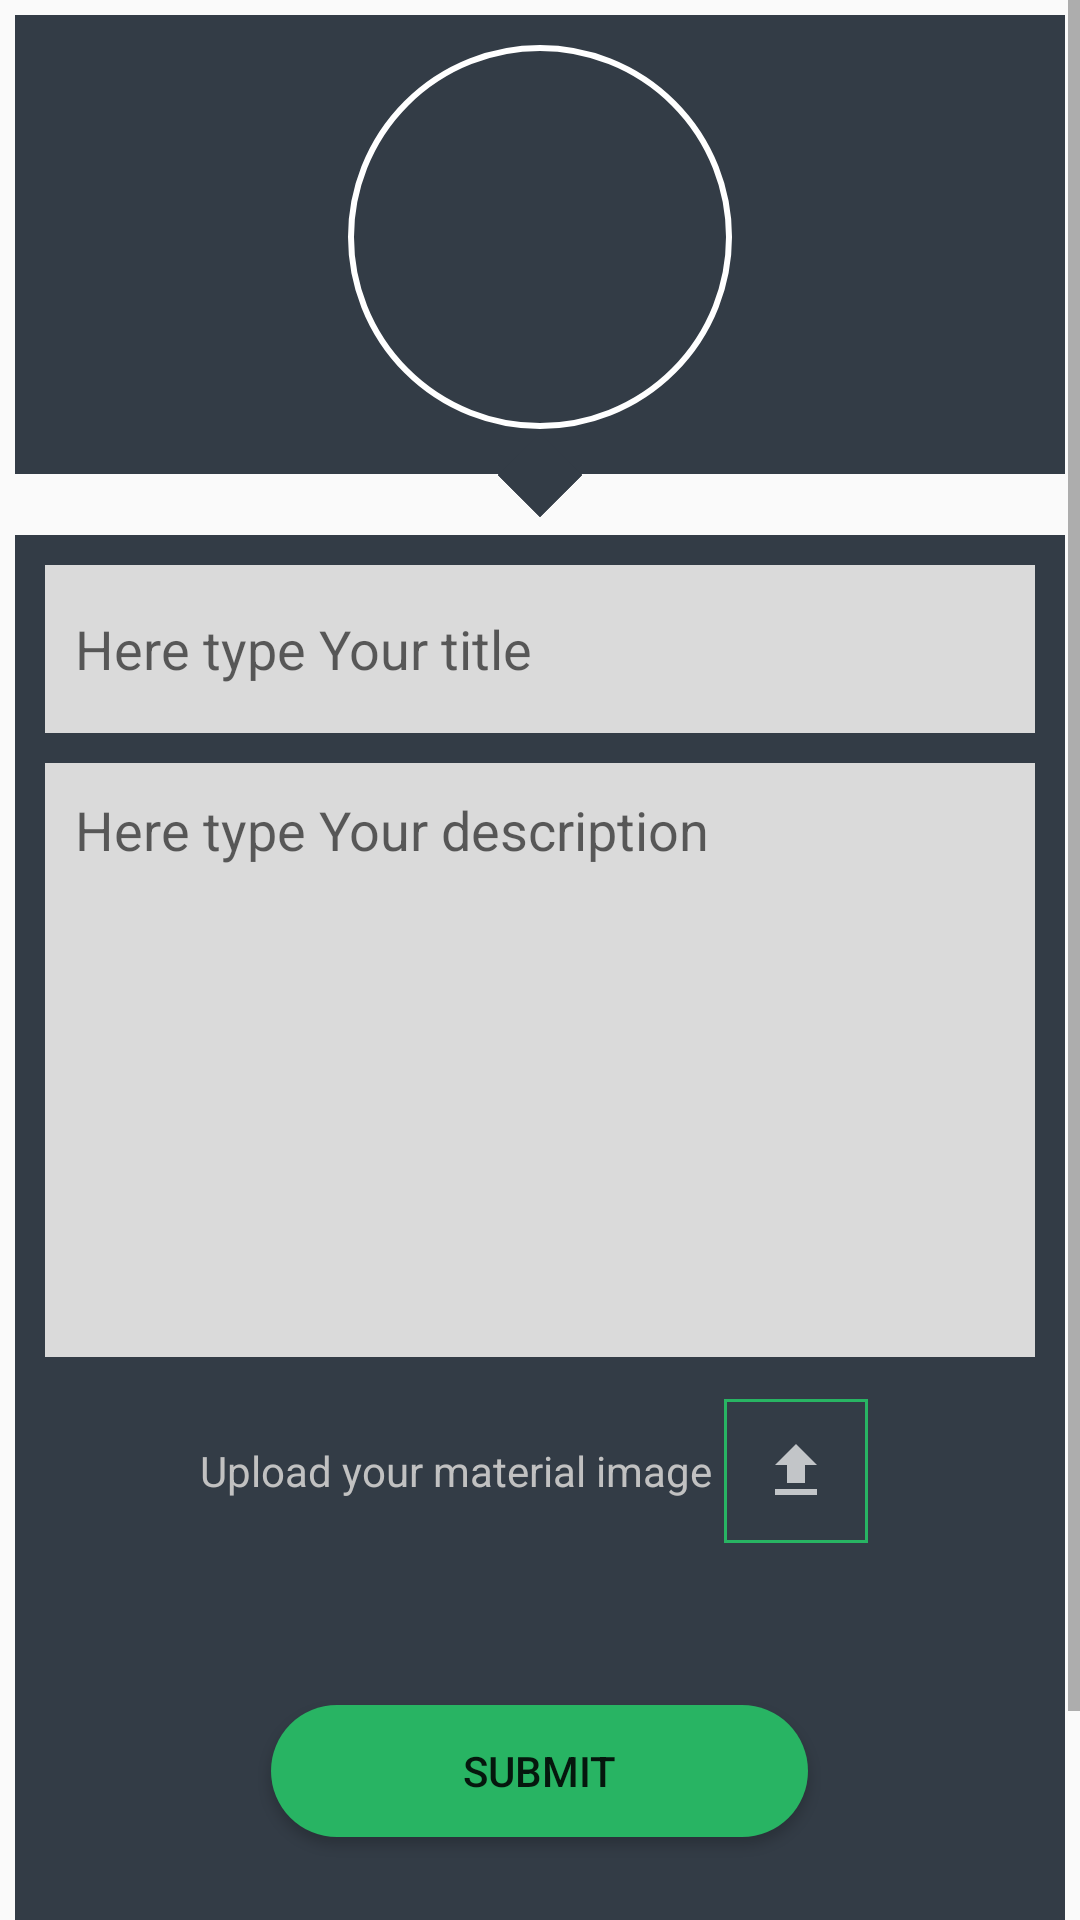

Icon bounding boxes for this 1080 x 1920 phone screenshot, format [x1=x1, y1=y1, x2=x2, y2=y2]:
file upload: [x1=724, y1=1399, x2=868, y2=1543]
